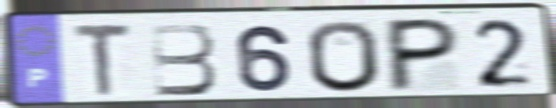2: (471, 16, 535, 89)
6: (232, 22, 296, 94)
B: (147, 21, 221, 99)
O: (304, 18, 384, 95)
P: (384, 16, 463, 95)
T: (70, 21, 135, 101)
